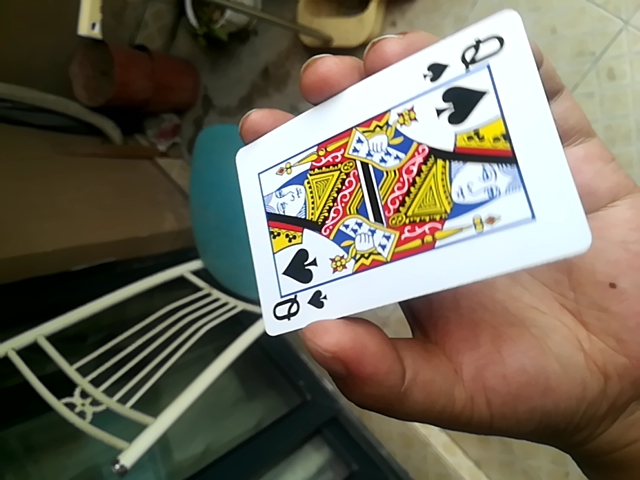ht q: (223, 13, 591, 350)
